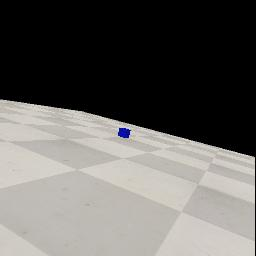box: (118, 128, 131, 138)
